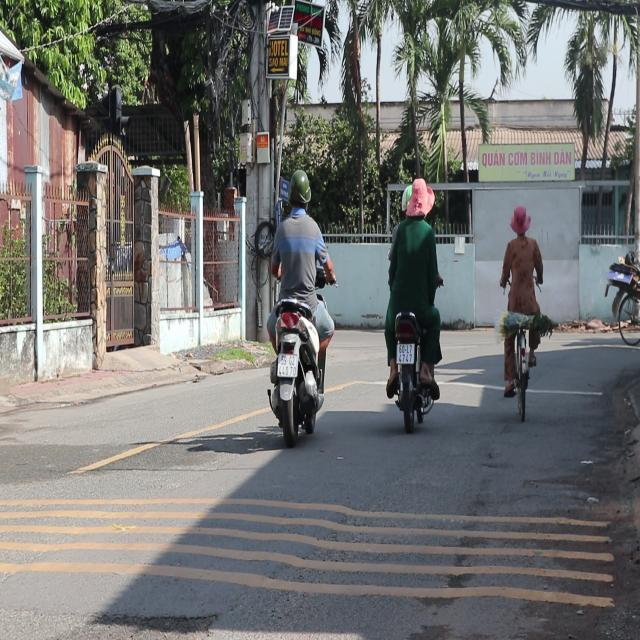helmet: (402, 176, 433, 220), (286, 168, 311, 213)
licenseplate: (263, 167, 336, 444)
motorcyclist: (379, 177, 444, 430)
nohelmet: (278, 355, 298, 377), (396, 344, 414, 363)
